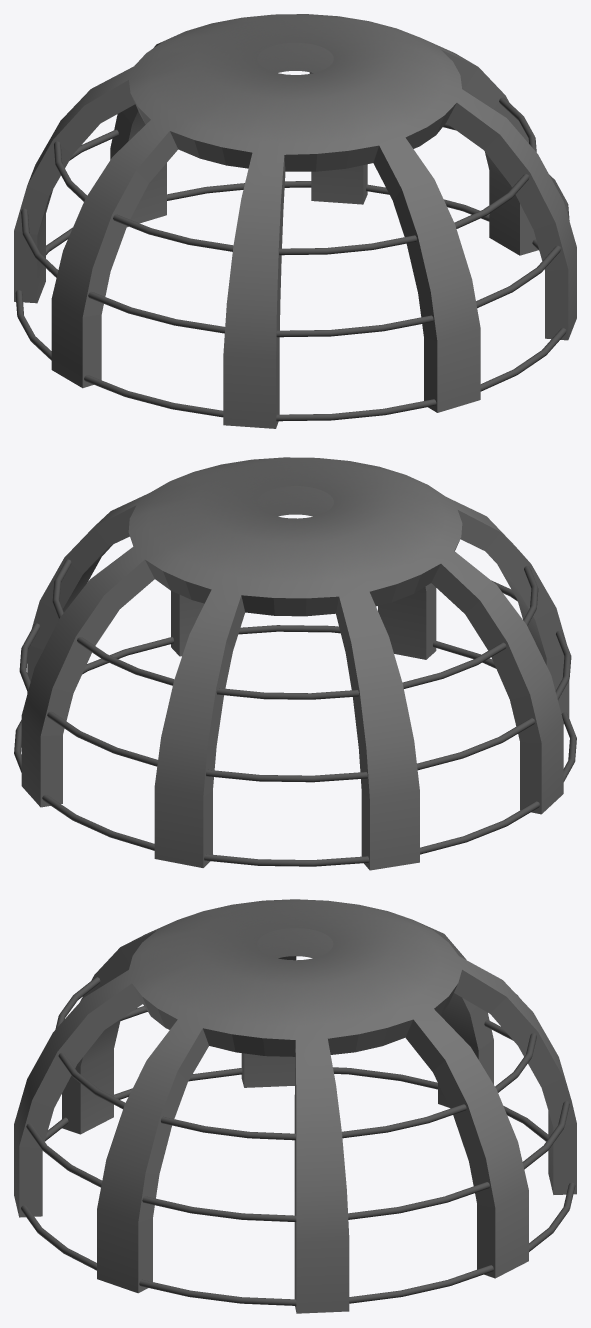
File: DomeFix.fbx
3 views of the same model, one above another, from view 1: azimuth 30°, elevation 25°; view 2: azimuth 150°, elevation 25°; view 3: azimuth 270°, elevation 25° (orthographic).
Visible parts, largest first — view 1: Metal; view 2: Metal; view 3: Metal.
Boxes of the visible parts, box(x1,y1,x2,y2) form: Metal: box(14, 14, 576, 428); Metal: box(14, 457, 576, 870); Metal: box(14, 899, 576, 1313).
Bounding box in the file's own units: 130 × 63.99 × 130.
